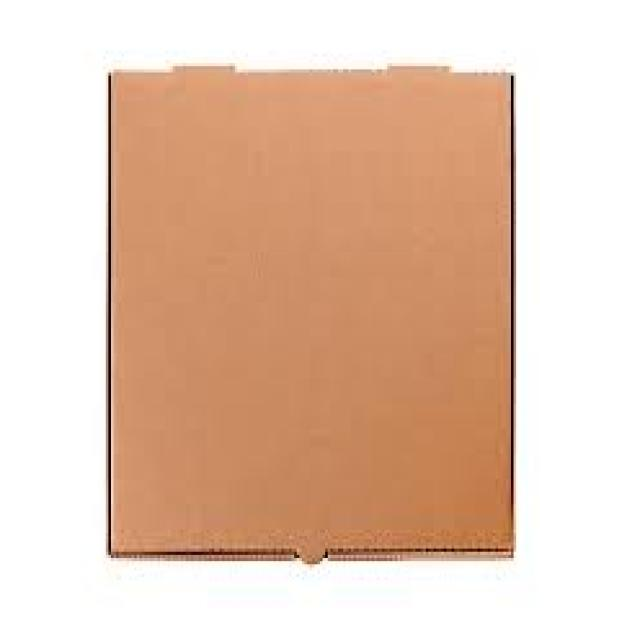cardboard: (103, 63, 516, 555)
